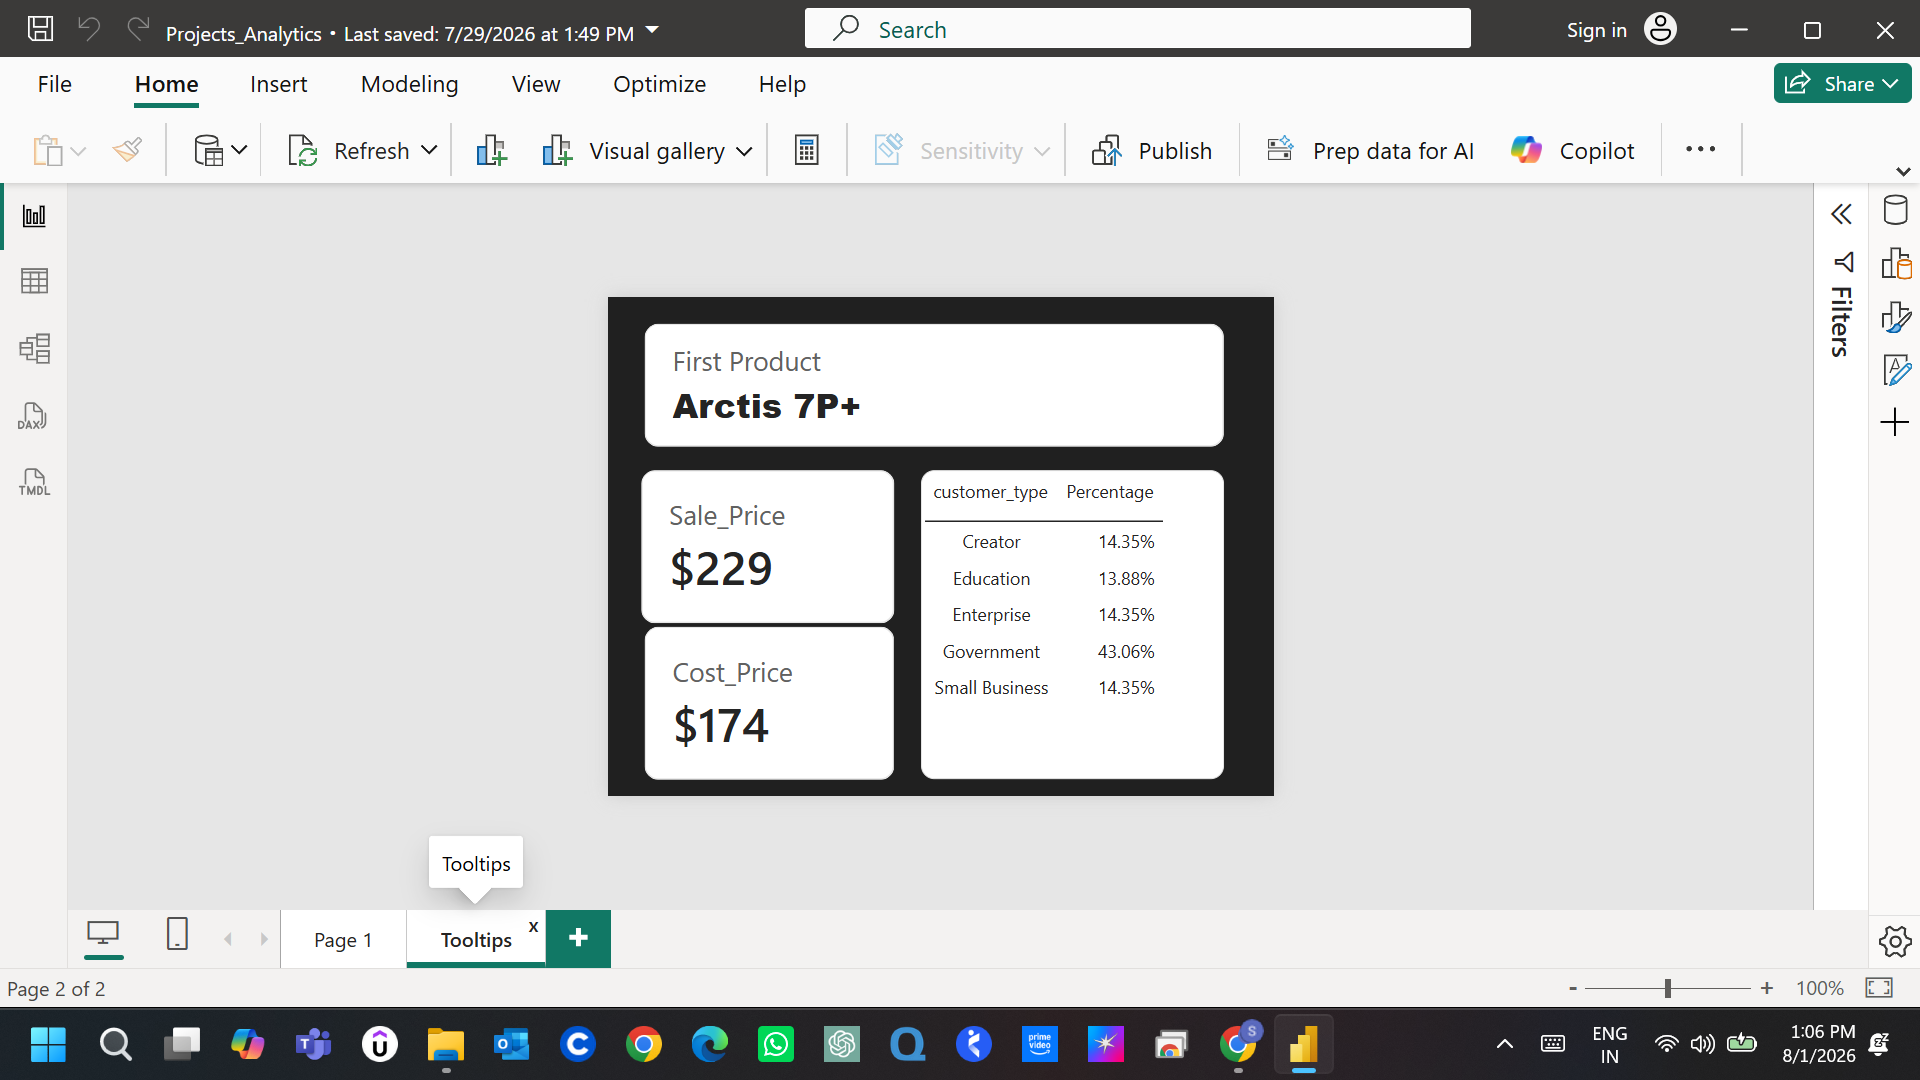

The page's visual inventory and layout, read from the dashboard file:
{"tool":"powerbi","page":{"name":"Tooltips","canvas":[400,300],"ordinal":1},"visuals":[{"type":"cardVisual","fields":{"Data":["Max(Query.Sale_Price)"]},"box":[20,104,152,92],"z":0},{"type":"cardVisual","fields":{"Data":["Max(Query.Cost_Price)"]},"box":[22,198,150,92],"z":1},{"type":"cardVisual","fields":{"Data":["Min(Query.Product)"]},"box":[22,16,348,74],"z":2},{"type":"tableEx","fields":{"Values":["Query.customer_type","CountNonNull(Query.customer_type)"]},"box":[188,104,182,186],"z":3}]}

Visuals, with their boxes on the page's 400x300 design canvas (x1, y1, x2, y2). These are canvas units, not pixel positions in the 1920x1080 screenshot, which may show the page scaled, cropped or inside an application window:
cardVisual - Max(Query.Sale_Price): l=20, t=104, r=172, b=196
cardVisual - Max(Query.Cost_Price): l=22, t=198, r=172, b=290
cardVisual - Min(Query.Product): l=22, t=16, r=370, b=90
tableEx - Query.customer_type x CountNonNull(Query.customer_type): l=188, t=104, r=370, b=290
